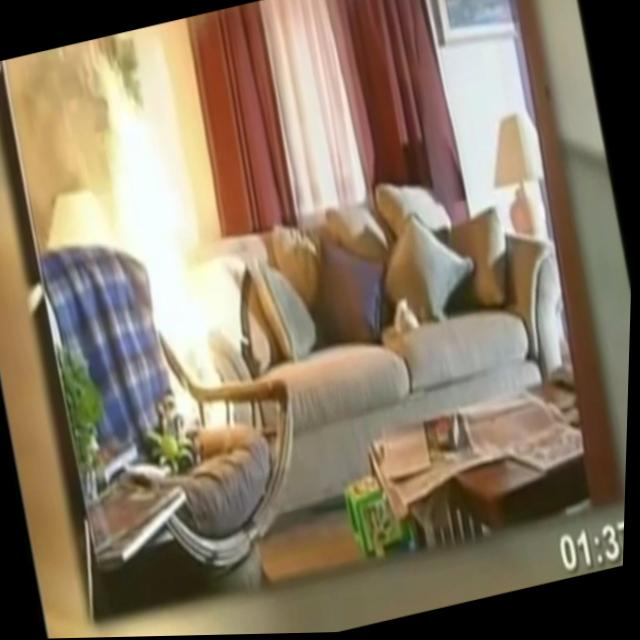fire: (59, 24, 253, 451)
